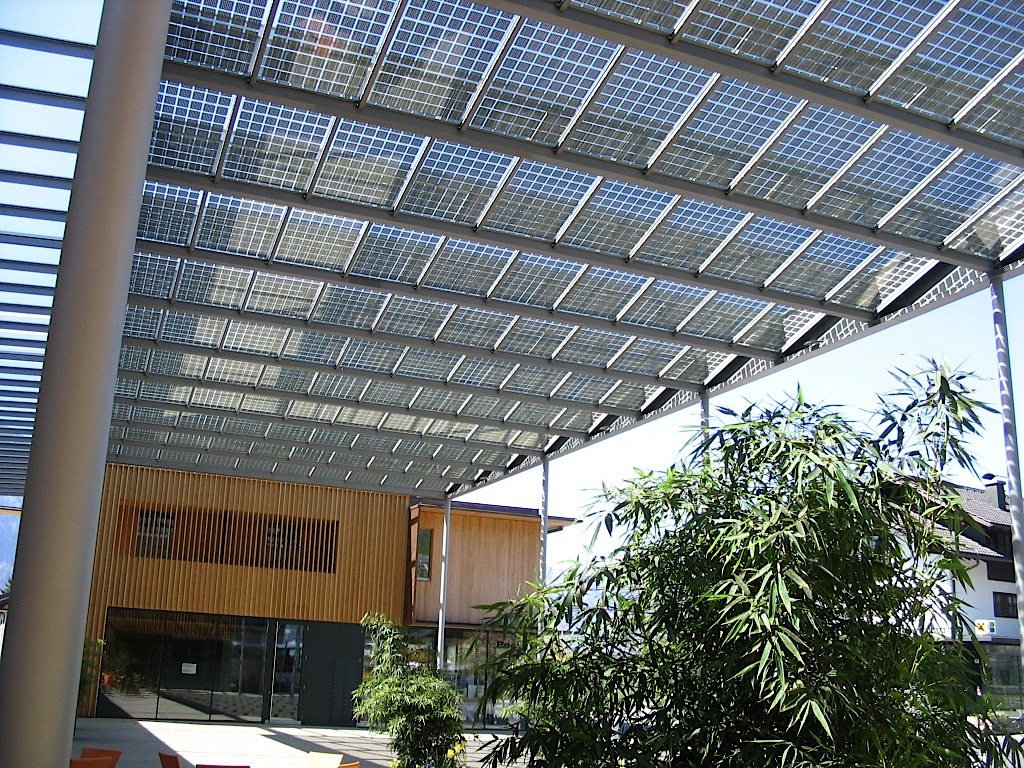Window: (986, 528, 1018, 583), (994, 594, 1023, 620), (420, 529, 433, 582)
